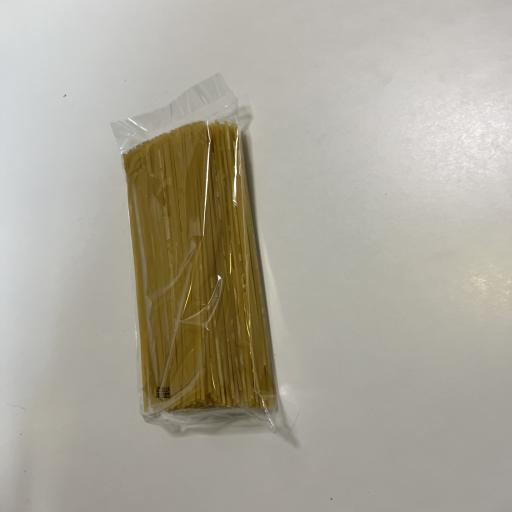spagetti: (86, 74, 314, 448)
